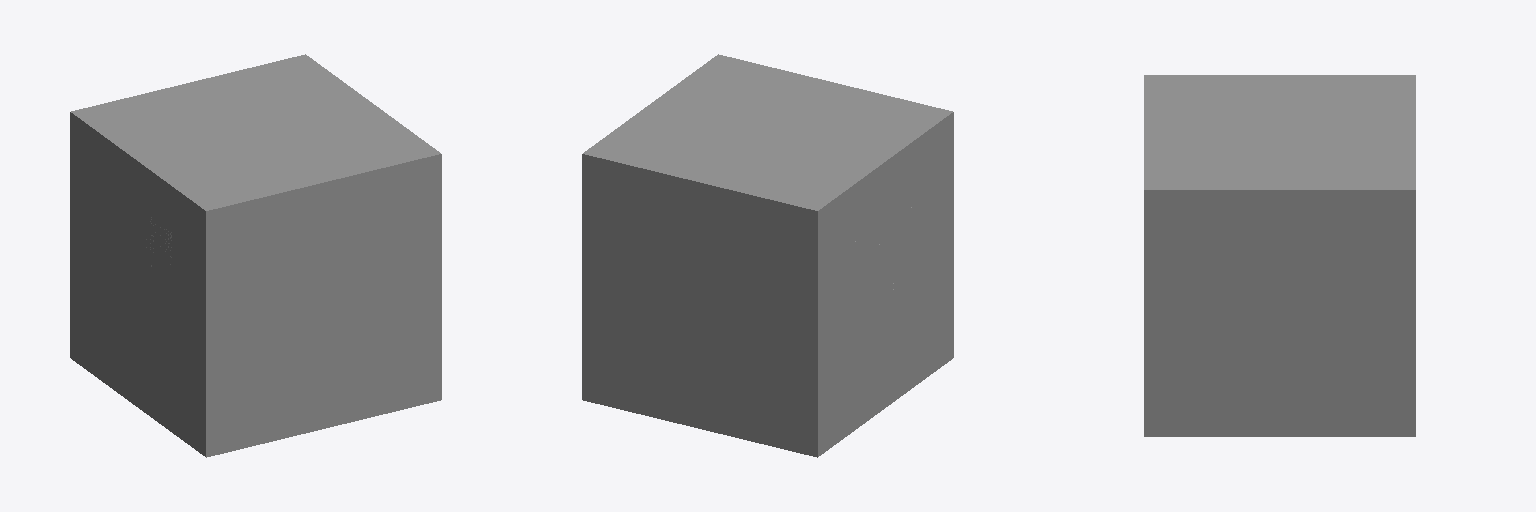
The model's file is alarmmedium.obj.
The picture shows the model from 3 angles: view 1: azimuth 30°, elevation 25°; view 2: azimuth 150°, elevation 25°; view 3: azimuth 270°, elevation 25°; orthographic projection.
Parts seen in each view (by area): view 1: Minecraft_Block_Cube; view 2: Minecraft_Block_Cube; view 3: Minecraft_Block_Cube.
Part boxes in pixels (left/top/right/bottom): Minecraft_Block_Cube: left=70, top=54, right=441, bottom=457; Minecraft_Block_Cube: left=582, top=54, right=953, bottom=457; Minecraft_Block_Cube: left=1144, top=75, right=1415, bottom=436.
Bounding box in the file's own units: 1 × 1 × 1.